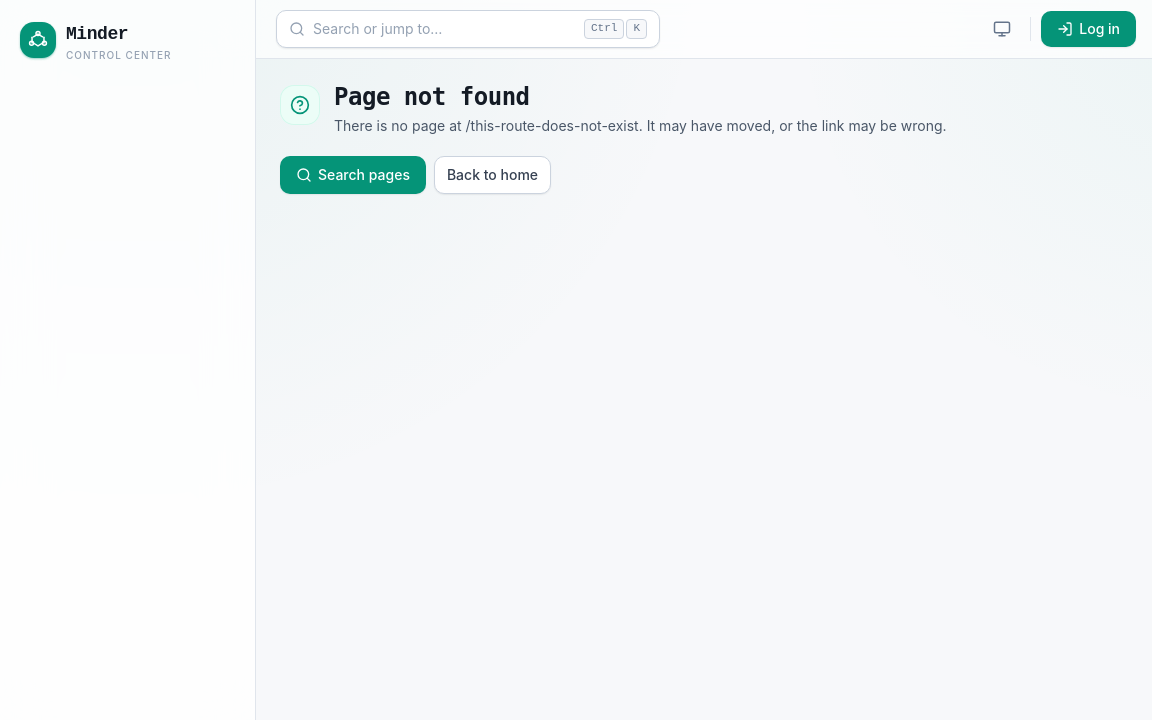
Test: App › shows the 404 page for an unmatched path, with search and the way home (#131)
expect the heading "Page not found" is shown: met, box [334,83,530,111]
expect the text "There is no page at /this-route-does-not-exist" is shown: met, box [334,117,947,134]
Click the button "Search pages".
click(353, 175)  # box [280,156,426,194]
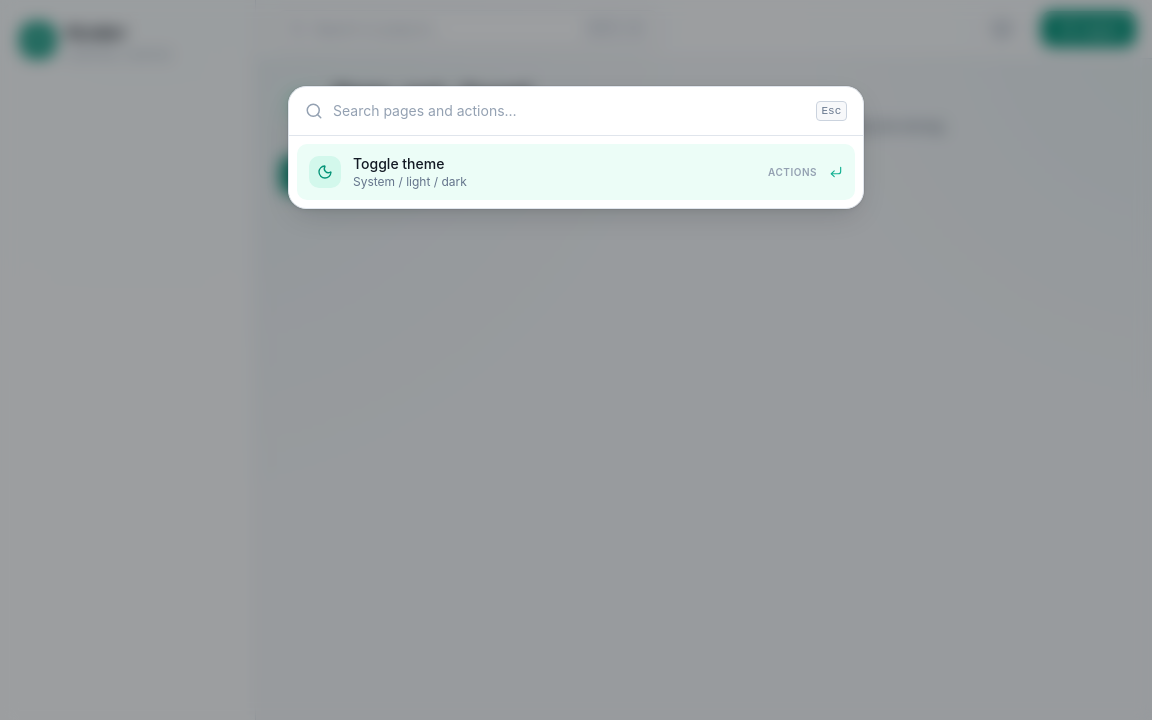
expect the dialog named "Command palette" is shown: met, box [288,86,864,209]
